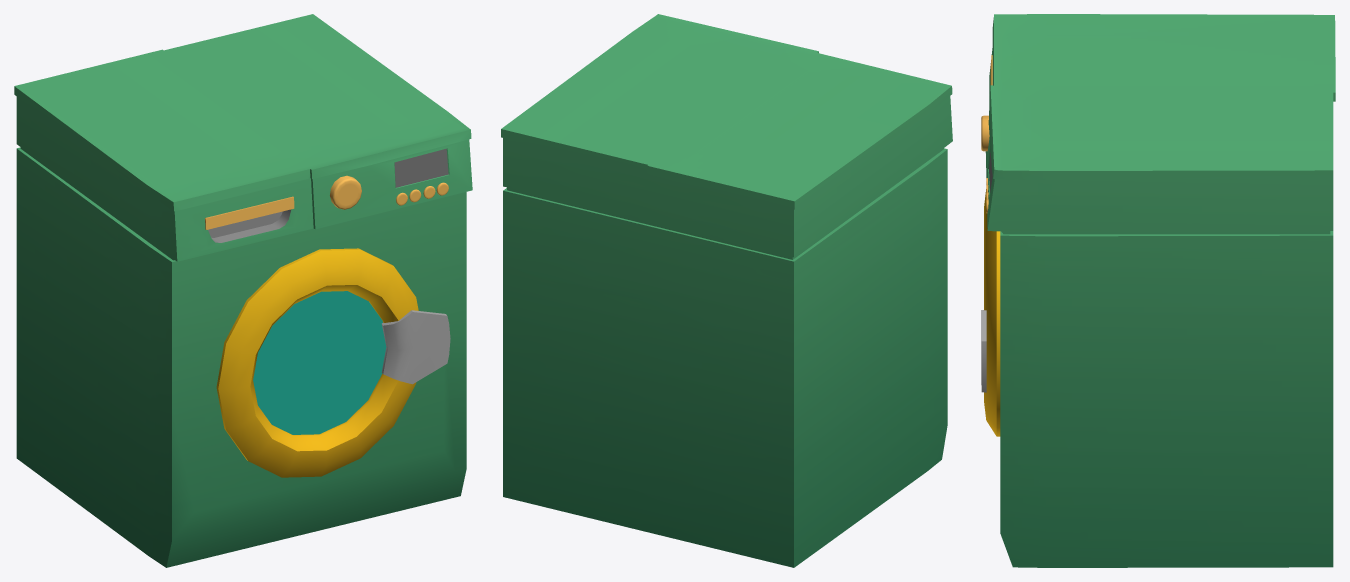
File: Washer.fbx
The picture shows the model from 3 angles, left to right: view 1: azimuth 30°, elevation 25°; view 2: azimuth 150°, elevation 25°; view 3: azimuth 270°, elevation 25°; orthographic projection. The views are drawn at different scales.
Visible parts, largest first — view 1: Washer.001, WasherLid.001; view 2: Washer.001; view 3: Washer.001, WasherLid.001.
Part boxes in pixels (x1=…): Washer.001: x1=14, y1=14, x2=472, y2=567; WasherLid.001: x1=216, y1=248, x2=450, y2=477; Washer.001: x1=501, y1=14, x2=952, y2=567; Washer.001: x1=981, y1=14, x2=1335, y2=567; WasherLid.001: x1=981, y1=189, x2=1000, y2=436.
Bounding box in the file's own units: 104 × 123 × 99.44.
